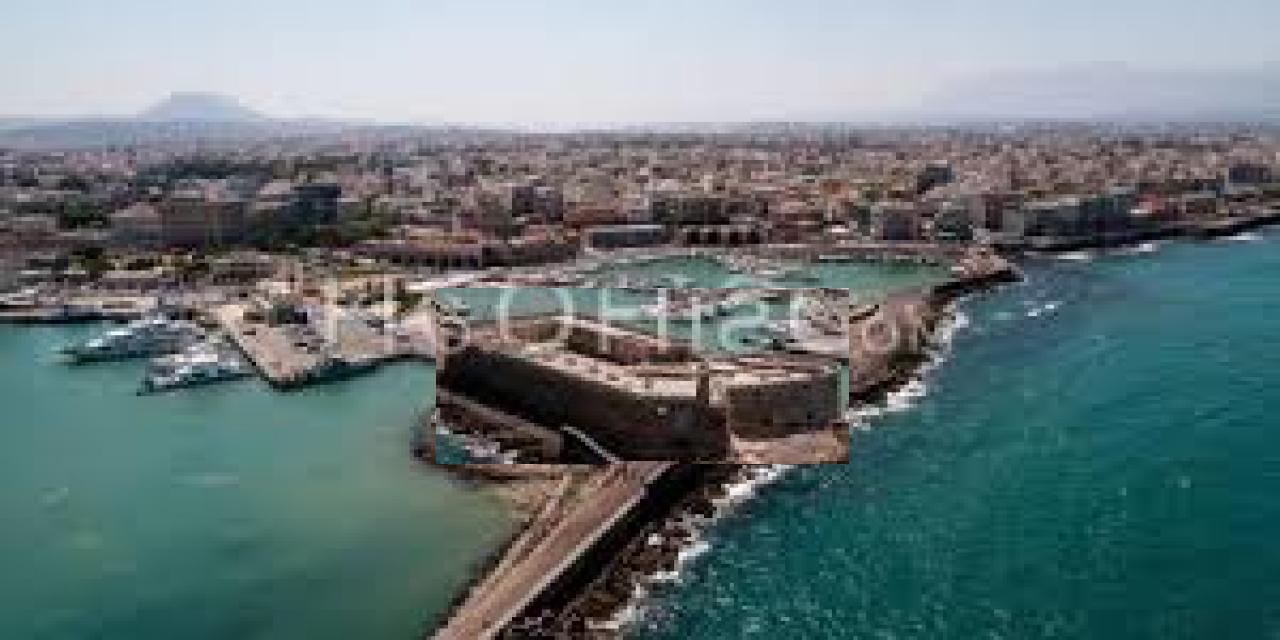Kules: (437, 289, 850, 465)
